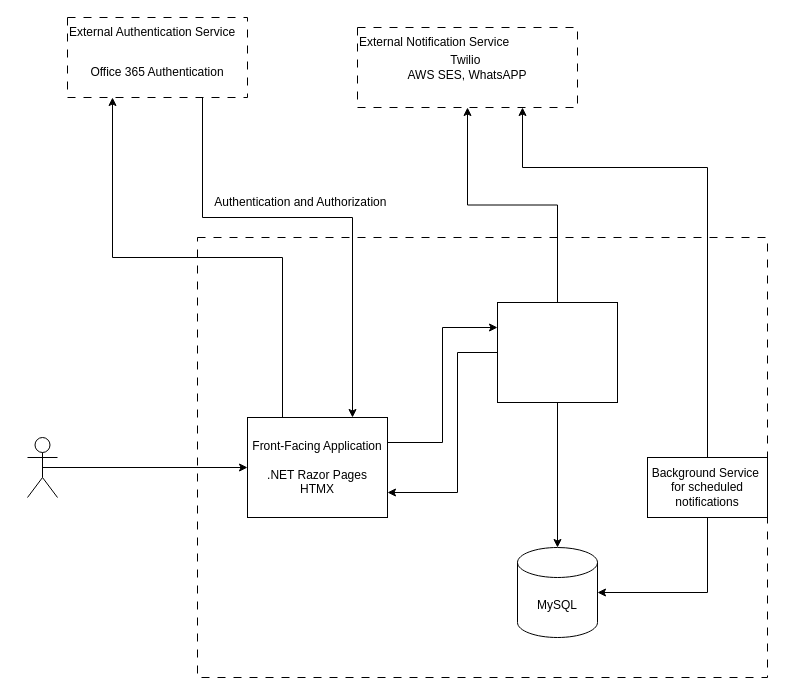
Some shapes in this 785 by 695 pixel diagram are drawn without their labels. The box of each missing label's shape, as (x1, y1, x2, y2) in pixels:
End User: (26, 436, 58, 498)
Internal API .NET Minimal API EF Core (Code First) OpenAPI Support: (496, 302, 618, 402)
